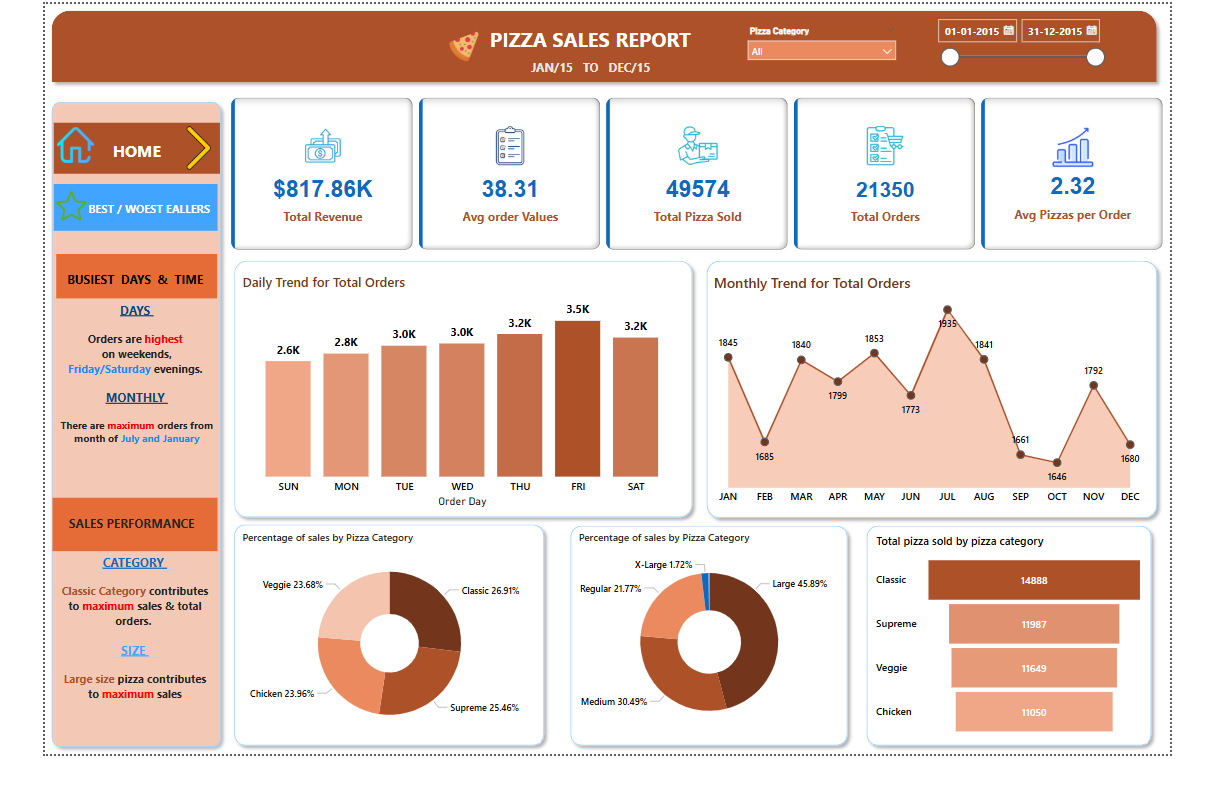

The dashboard page shown, as its layout file describes it:
{"tool":"powerbi","page":{"name":"Home","canvas":[1500,1000],"ordinal":0},"visuals":[{"type":"cardVisual","fields":{"Data":["public pizzasales.Total Revenue","public pizzasales.Avg order Values","public pizzasales.Total Pizza Sold","public pizzasales.Total Orders","public pizzasales.Avg Pizzas per Order"]},"box":[243.5,120,1256.2,213],"z":0},{"type":"shape","box":[0,0,1491.2,113.3],"z":1000},{"type":"textbox","box":[581.6,23.7,290.8,59.2],"z":2000},{"type":"textbox","box":[605.3,67.6,245.2,38.9],"z":3000},{"type":"image","box":[532.6,32.1,50.7,50.7],"z":4000},{"type":"shape","box":[243.5,333.1,629,360.1],"z":5000},{"type":"columnChart","title":"Daily Trend for Total Orders","fields":{"Y":["public pizzasales.Total Orders"],"Category":["public pizzasales.Order Day"]},"box":[258.7,358.4,596.8,317.9],"z":6000},{"type":"shape","box":[872.4,333.1,612,360.1],"z":7000},{"type":"areaChart","title":" Monthly Trend  for Total Orders ","fields":{"Y":["public pizzasales.Total Orders"],"Category":["public pizzasales.Order Month"]},"box":[885.9,358.4,585,317.9],"z":8000},{"type":"shape","box":[0,121.7,243.5,877.5],"z":9000},{"type":"shape","box":[243.5,684.7,431.1,312.8],"z":10000},{"type":"shape","box":[691.5,686.4,387.2,311.1],"z":11000},{"type":"shape","box":[1087.1,686.4,397.3,311.1],"z":12000},{"type":"donutChart","title":"Percentage of sales by Pizza Category","fields":{"Category":["public pizzasales.pizza_category"],"Y":["public pizzasales.Total Revenue"]},"box":[258.7,701.7,402.4,284],"z":13000},{"type":"donutChart","title":"Percentage of sales by Pizza Category","fields":{"Y":["public pizzasales.Total Revenue"],"Category":["public pizzasales.pizza_size"]},"box":[706.7,701.7,358.4,280.7],"z":14000},{"type":"funnel","title":" Total pizza sold  by pizza  category","fields":{"Y":["public pizzasales.Total Pizza Sold"],"Category":["public pizzasales.pizza_category"]},"box":[1104.1,705,366.9,280.7],"z":15000},{"type":"textbox","box":[10.1,657.7,219.8,71],"z":16000},{"type":"textbox","box":[15.2,392.3,214.7,265.4],"z":17000},{"type":"textbox","box":[15.2,333.1,214.7,59.2],"z":18000},{"type":"textbox","box":[15.2,728.7,209.7,253.6],"z":19000},{"type":"slicer","fields":{"Values":["public pizzasales.pizza_category"]},"box":[926.5,23.7,218.1,60.9],"z":20000},{"type":"slicer","fields":{"Values":["public pizzasales.order_date"]},"box":[1178.4,10.1,243.5,86.2],"z":21000},{"type":"textbox","box":[11.8,158.9,221.5,67.6],"z":21002},{"type":"image","box":[0,158.9,81.2,59.2],"z":21003},{"type":"image","box":[169.1,158.9,74.4,67.6],"z":21004},{"type":"textbox","box":[11.8,240.1,218.1,62.6],"z":21005},{"type":"image","box":[10.1,240.1,50.7,59.2],"z":21006}]}

Visuals, with their boxes on the page's 1500x1000 design canvas (x1, y1, x2, y2). These are canvas units, not pixel positions in the 1223x789 screenshot, which may show the page scaled, cropped or inside an application window:
cardVisual - public pizzasales.Total Revenue x public pizzasales.Avg order Values: box=[244, 120, 1500, 333]
shape: box=[0, 0, 1491, 113]
textbox: box=[582, 24, 872, 83]
textbox: box=[605, 68, 850, 106]
image: box=[533, 32, 583, 83]
shape: box=[244, 333, 872, 693]
"Daily Trend for Total Orders" columnChart: box=[259, 358, 856, 676]
shape: box=[872, 333, 1484, 693]
" Monthly Trend  for Total Orders " areaChart: box=[886, 358, 1471, 676]
shape: box=[0, 122, 244, 999]
shape: box=[244, 685, 675, 998]
shape: box=[692, 686, 1079, 998]
shape: box=[1087, 686, 1484, 998]
"Percentage of sales by Pizza Category" donutChart: box=[259, 702, 661, 986]
"Percentage of sales by Pizza Category" donutChart: box=[707, 702, 1065, 982]
" Total pizza sold  by pizza  category" funnel: box=[1104, 705, 1471, 986]
textbox: box=[10, 658, 230, 729]
textbox: box=[15, 392, 230, 658]
textbox: box=[15, 333, 230, 392]
textbox: box=[15, 729, 225, 982]
slicer - public pizzasales.pizza_category: box=[926, 24, 1145, 85]
slicer - public pizzasales.order_date: box=[1178, 10, 1422, 96]
textbox: box=[12, 159, 233, 226]
image: box=[0, 159, 81, 218]
image: box=[169, 159, 244, 226]
textbox: box=[12, 240, 230, 303]
image: box=[10, 240, 61, 299]
